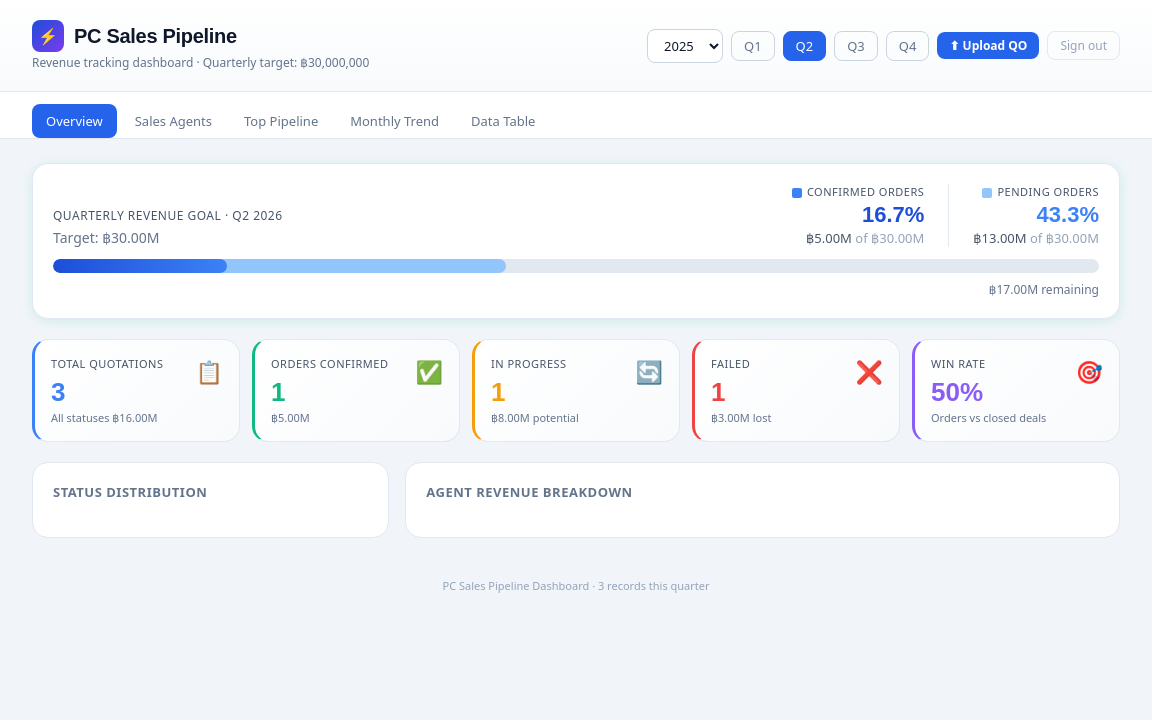
Scenario: Dashboard › Sales Agents Tab › renders agent cards and chart
This screenshot has width=1152, height=720.
Expected: the heading "PC Sales Pipeline" is shown, [74,24,237,48]
Click the button "Sales Agents" at (173, 121), box [121,104,226,138]
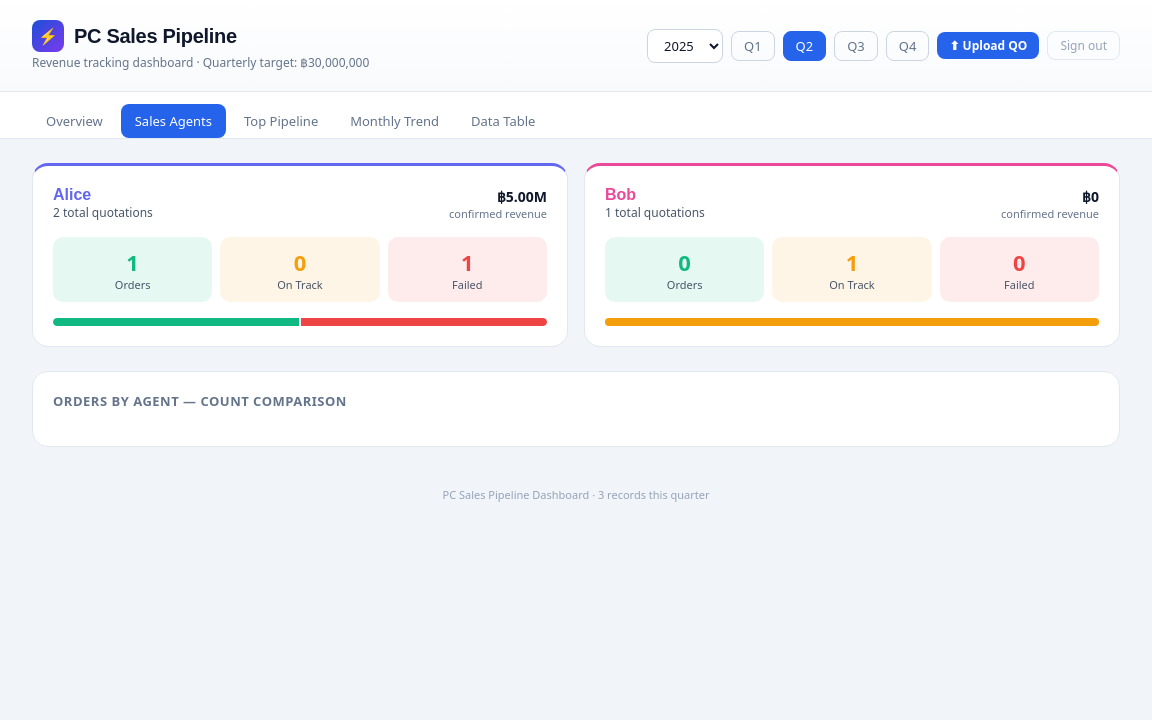
Now the text "Orders by Agent — Count Comparison" is shown, box [53,392,347,410]
Now the text "Alice" is shown, box [53,186,91,203]
Now the text "Bob" is shown, box [605,186,636,203]
